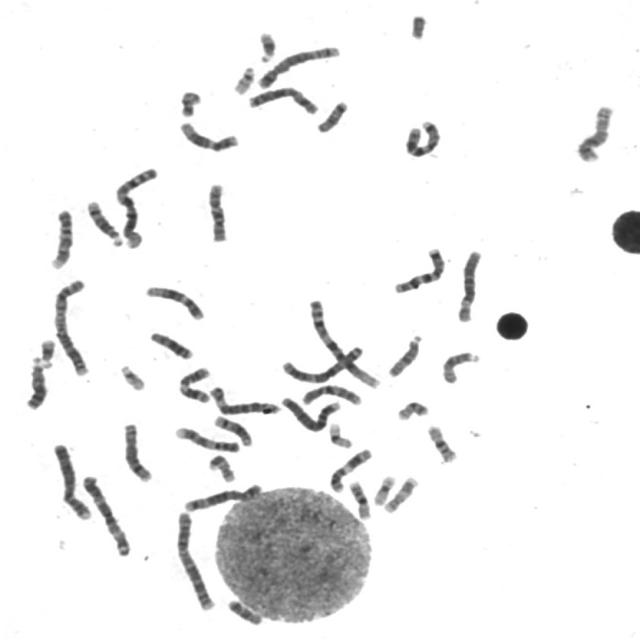A1: (305, 294, 383, 390), (111, 162, 161, 250)
A2: (172, 507, 219, 613), (50, 274, 94, 378)
A3: (77, 471, 134, 557), (278, 342, 366, 384)
B4: (49, 439, 94, 521), (277, 392, 343, 433)
B5: (254, 41, 343, 90), (181, 480, 266, 512)
C10: (203, 178, 231, 244), (298, 381, 364, 406)
C11: (327, 445, 374, 493), (174, 363, 215, 404)
C12: (142, 281, 207, 321), (176, 118, 242, 153)
C6: (207, 382, 283, 417), (454, 246, 485, 324)
C7: (390, 244, 448, 295), (402, 116, 444, 158)
C8: (573, 101, 617, 164), (119, 418, 154, 484)
C9: (172, 423, 242, 453), (46, 205, 76, 271)
D13: (146, 328, 196, 360), (22, 354, 50, 410)
D14: (83, 195, 125, 248), (210, 412, 256, 448)
D15: (385, 330, 425, 379), (438, 348, 484, 385)
E16: (424, 420, 461, 464), (346, 477, 374, 521)
E17: (381, 472, 421, 515), (206, 451, 238, 484)
E18: (313, 96, 351, 134), (224, 595, 266, 627)
F19: (371, 472, 398, 506), (326, 420, 356, 450)
F20: (394, 396, 431, 422), (176, 86, 204, 118)
G21: (254, 27, 279, 64), (36, 334, 58, 368)
G22: (116, 360, 148, 392), (229, 62, 258, 96)
X: (244, 82, 322, 116)
Y: (406, 10, 429, 40)
